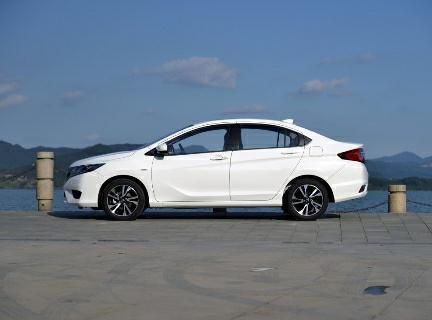本田-哥瑞: (54, 110, 378, 228)
